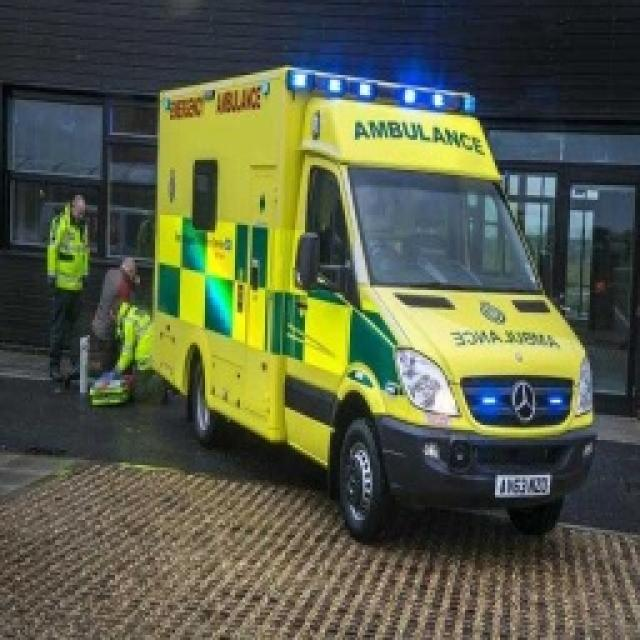emergency-vehicle: (128, 60, 604, 529)
